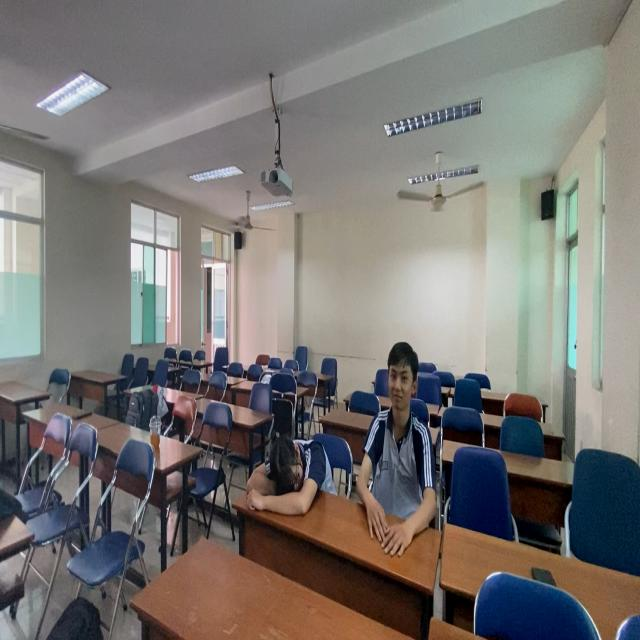sleep: (248, 430, 328, 525)
